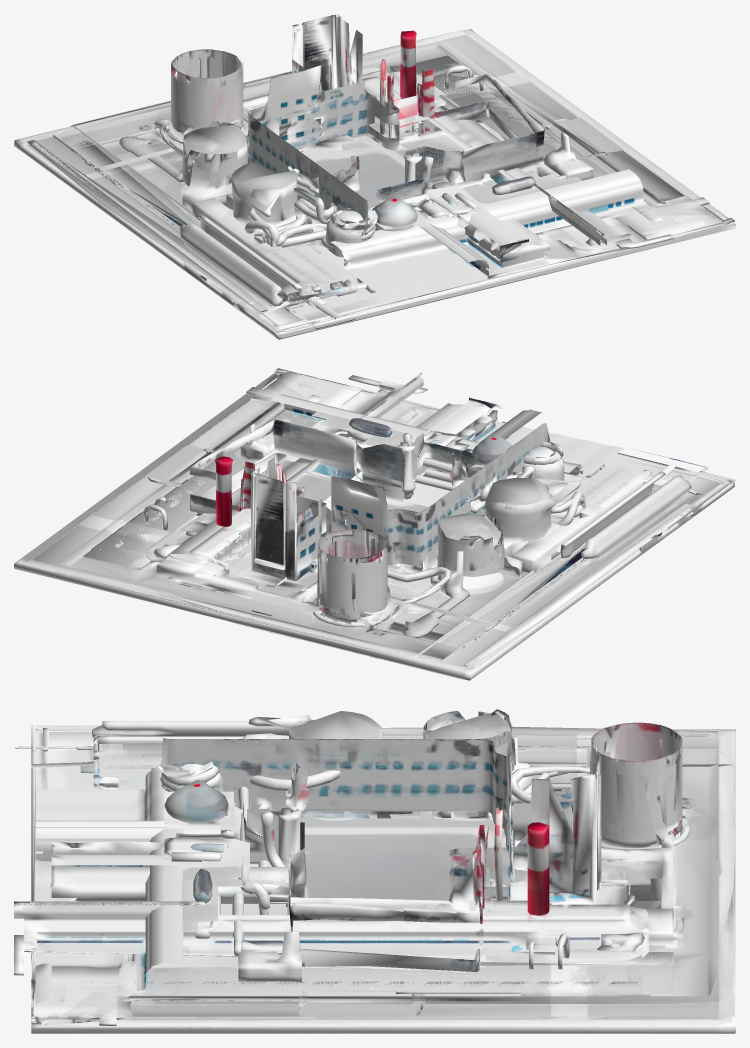
File: fab.glb
The picture shows the model from 3 angles, top to bottom: view 1: azimuth 30°, elevation 25°; view 2: azimuth 150°, elevation 25°; view 3: azimuth 270°, elevation 25°; orthographic projection. The views are drawn at different scales.
Bounding box in the file's own units: 1.91 × 0.4188 × 1.95.
1 material, 1 textured.
